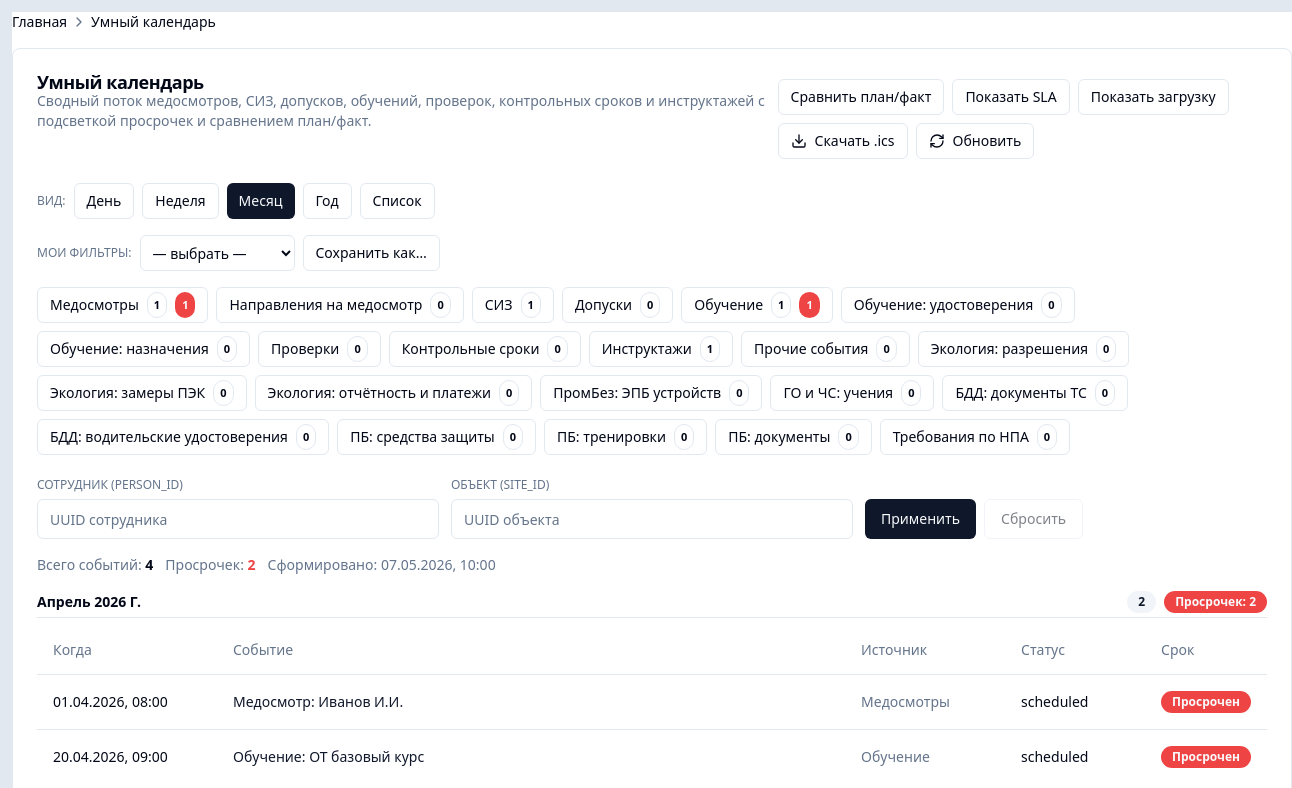
CalendarPage › applies a saved view by reissuing /calendar/events with its filters
Expected: the link "Медосмотр: Иванов И.И." is shown, [233,692,403,710]
Select "Медосмотры SLA" in the dropdown with test id "saved-views-select": [217, 253] box [140,235,294,271]
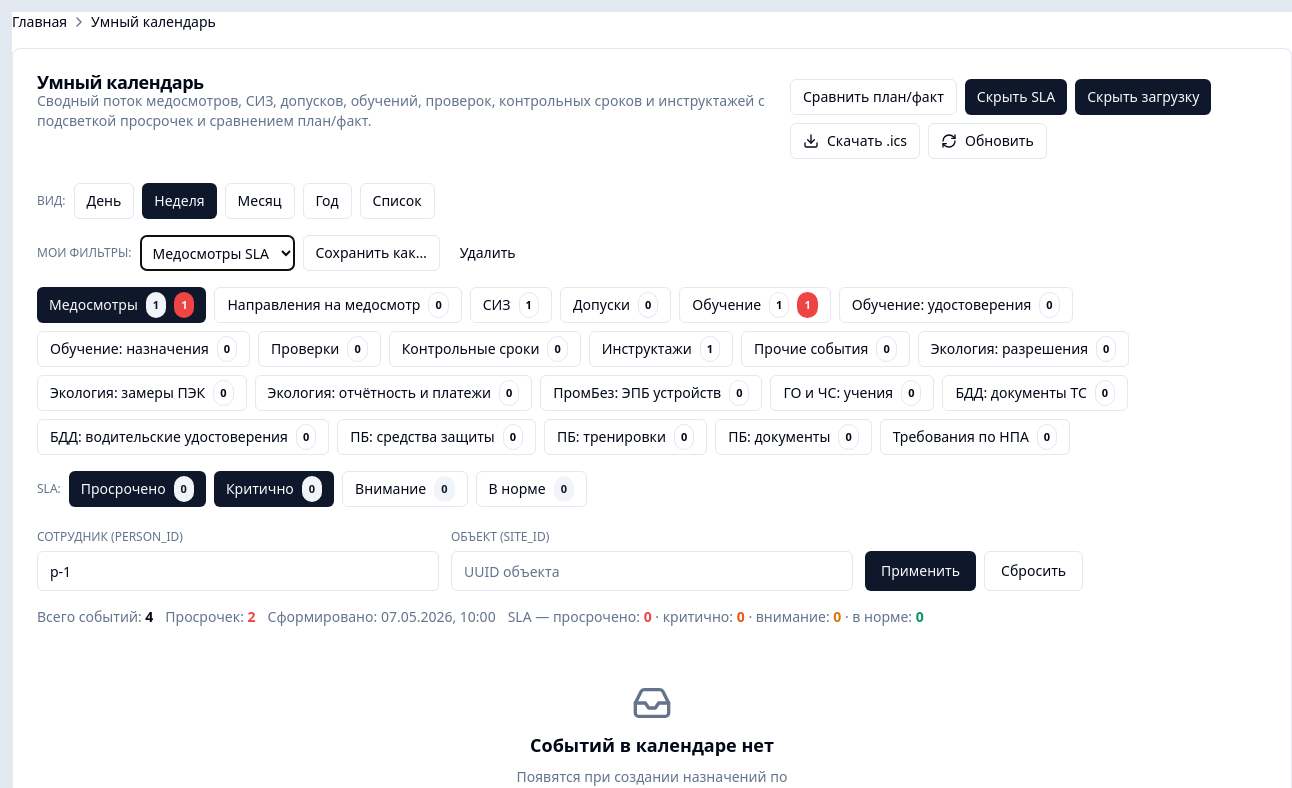
Now the button "Скрыть SLA" is shown, box [965,79,1067,115]
Now the button "Скрыть загрузку" is shown, box [1075,79,1211,115]
Now the button with test id "saved-views-delete" is shown, box [448,235,528,271]
